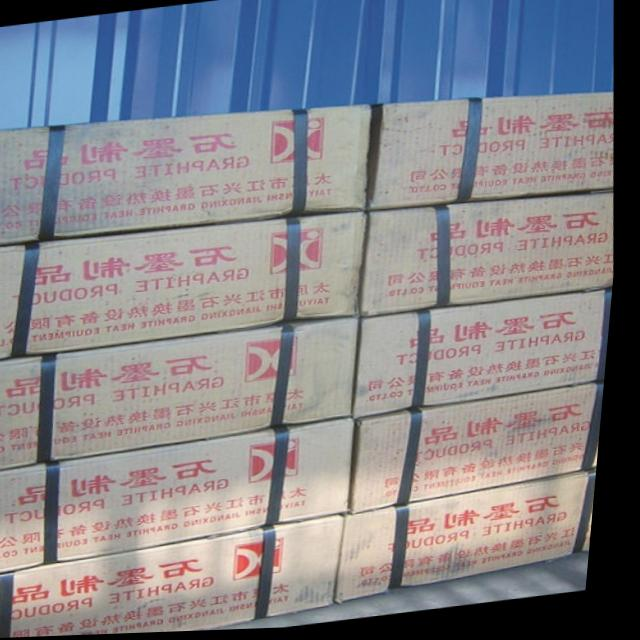box: (0, 421, 362, 576), (0, 320, 362, 473), (0, 213, 370, 360), (0, 108, 372, 247), (0, 517, 358, 639), (349, 475, 606, 607), (357, 385, 612, 518), (361, 295, 618, 422), (364, 195, 619, 321), (372, 98, 617, 210)
